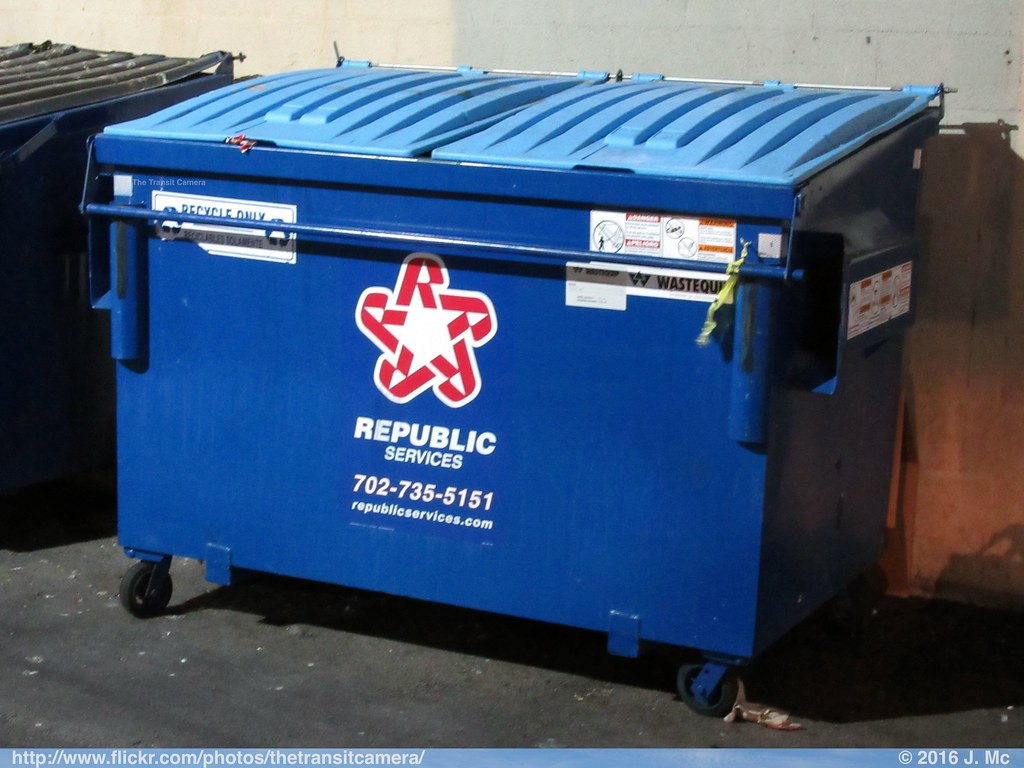Dumpster: (79, 57, 962, 722)
